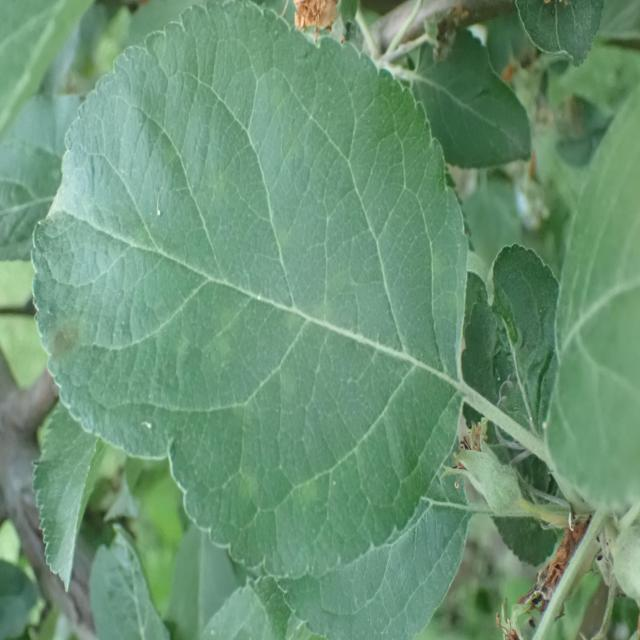scab: (24, 104, 458, 543), (15, 278, 96, 387)
